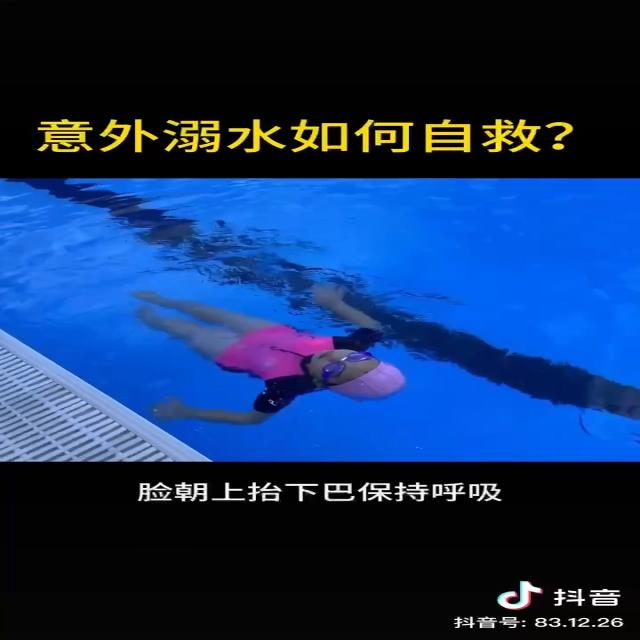Swimming: (124, 282, 409, 423)
